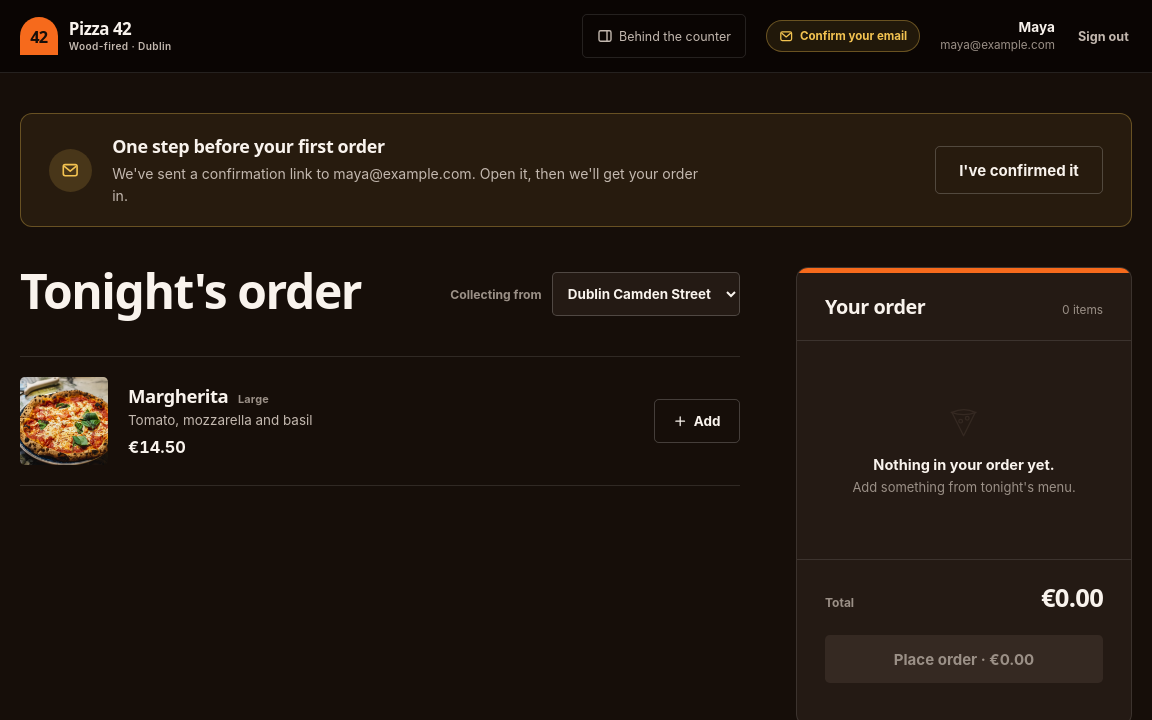
it: Pizza 42 ordering experience › tells the customer what happened when the refresh fails
Click the button "I've confirmed it" at (1019, 170), box [935,146,1103,194]
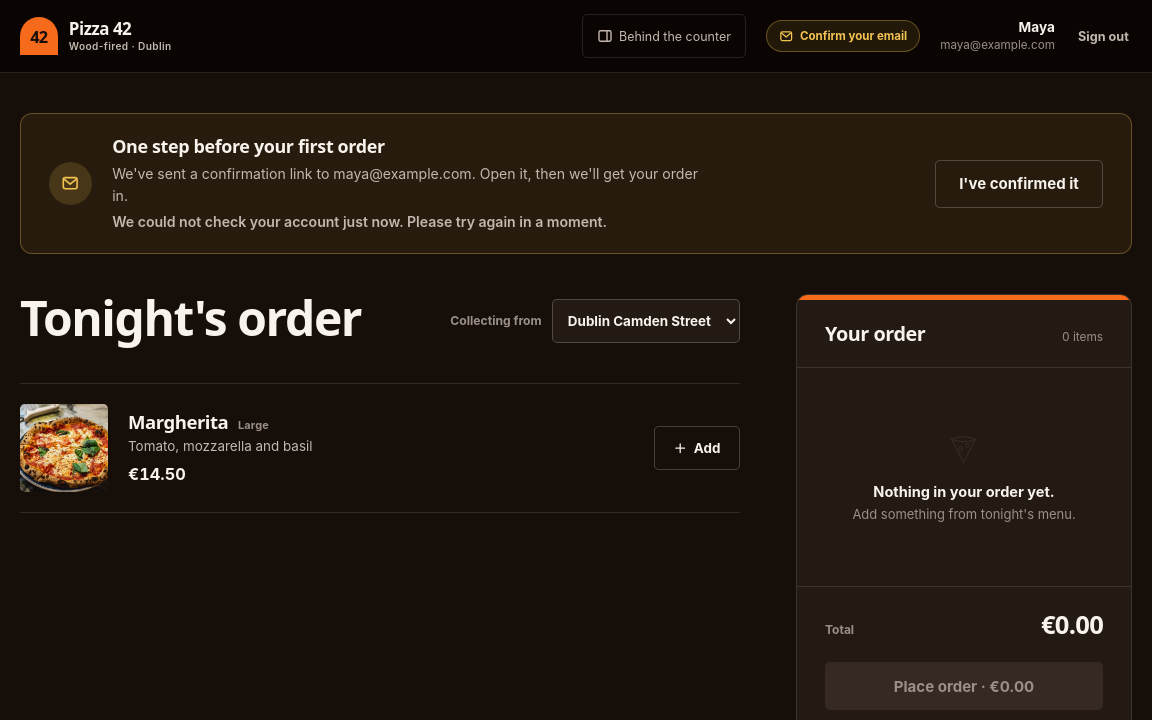
expect the button "I've confirmed it" is enabled: met, box [935,160,1103,208]
expect the text "We could not check your account just now. Please try again in a moment." is shown: met, box [112,213,607,230]
